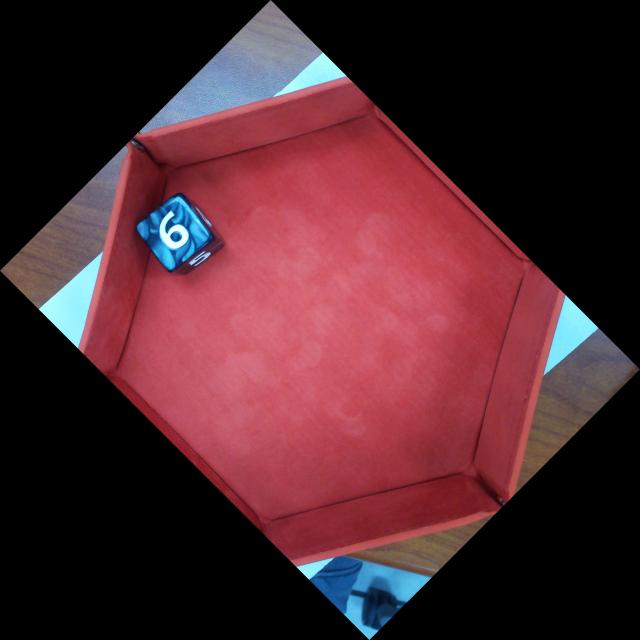dice: (135, 190, 217, 275)
